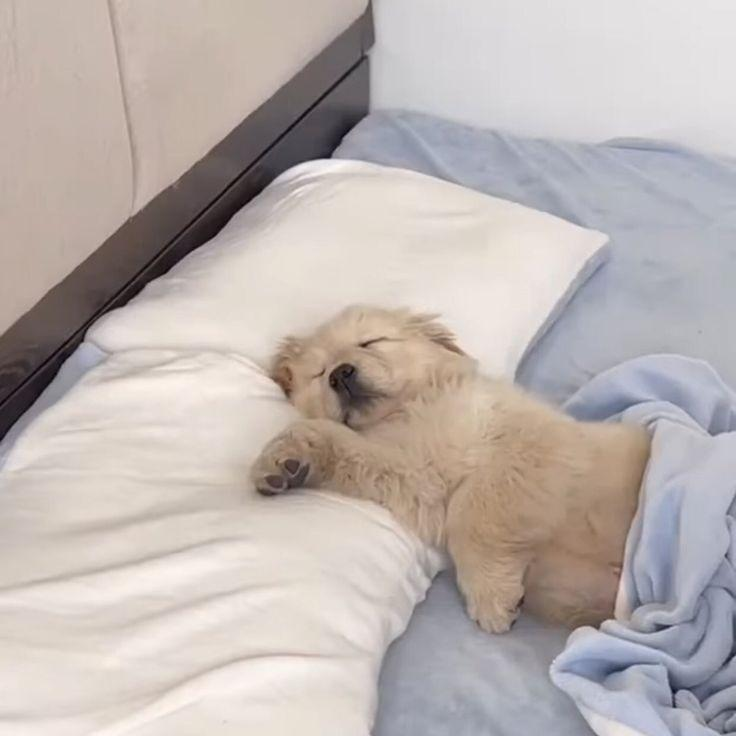puppy-dog: (250, 304, 653, 635)
